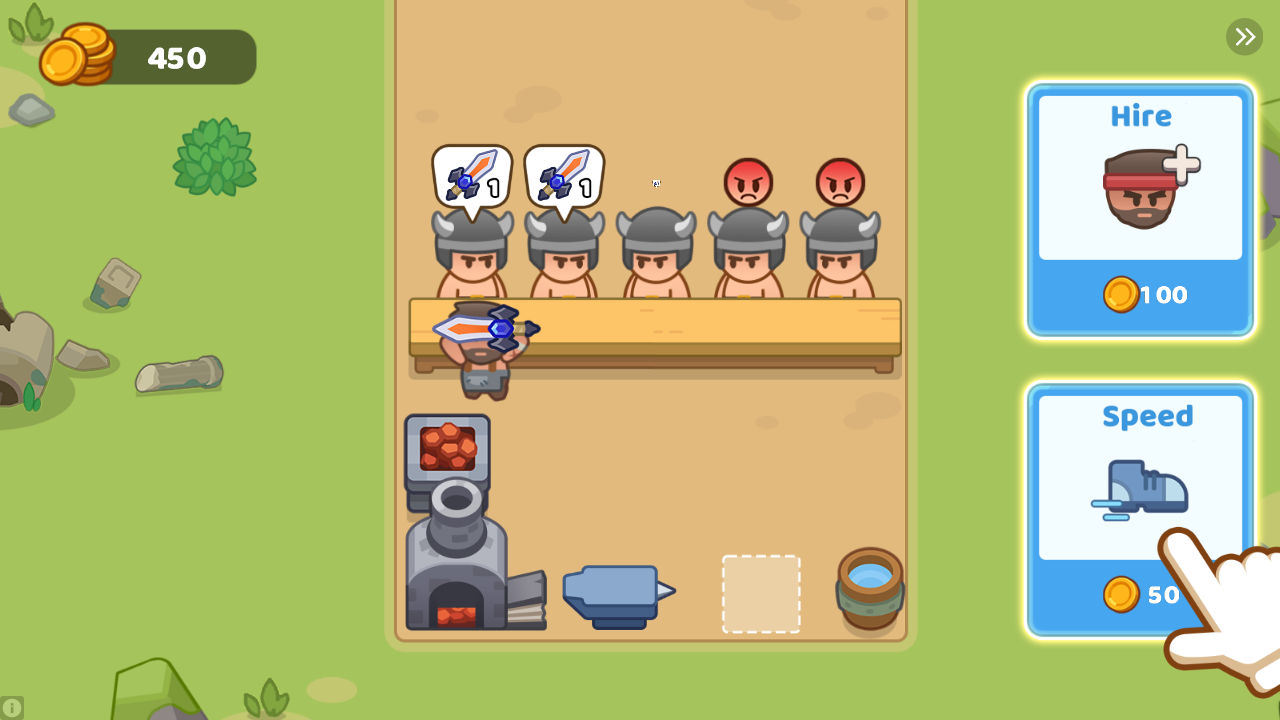skip: (1225, 17, 1265, 58)
